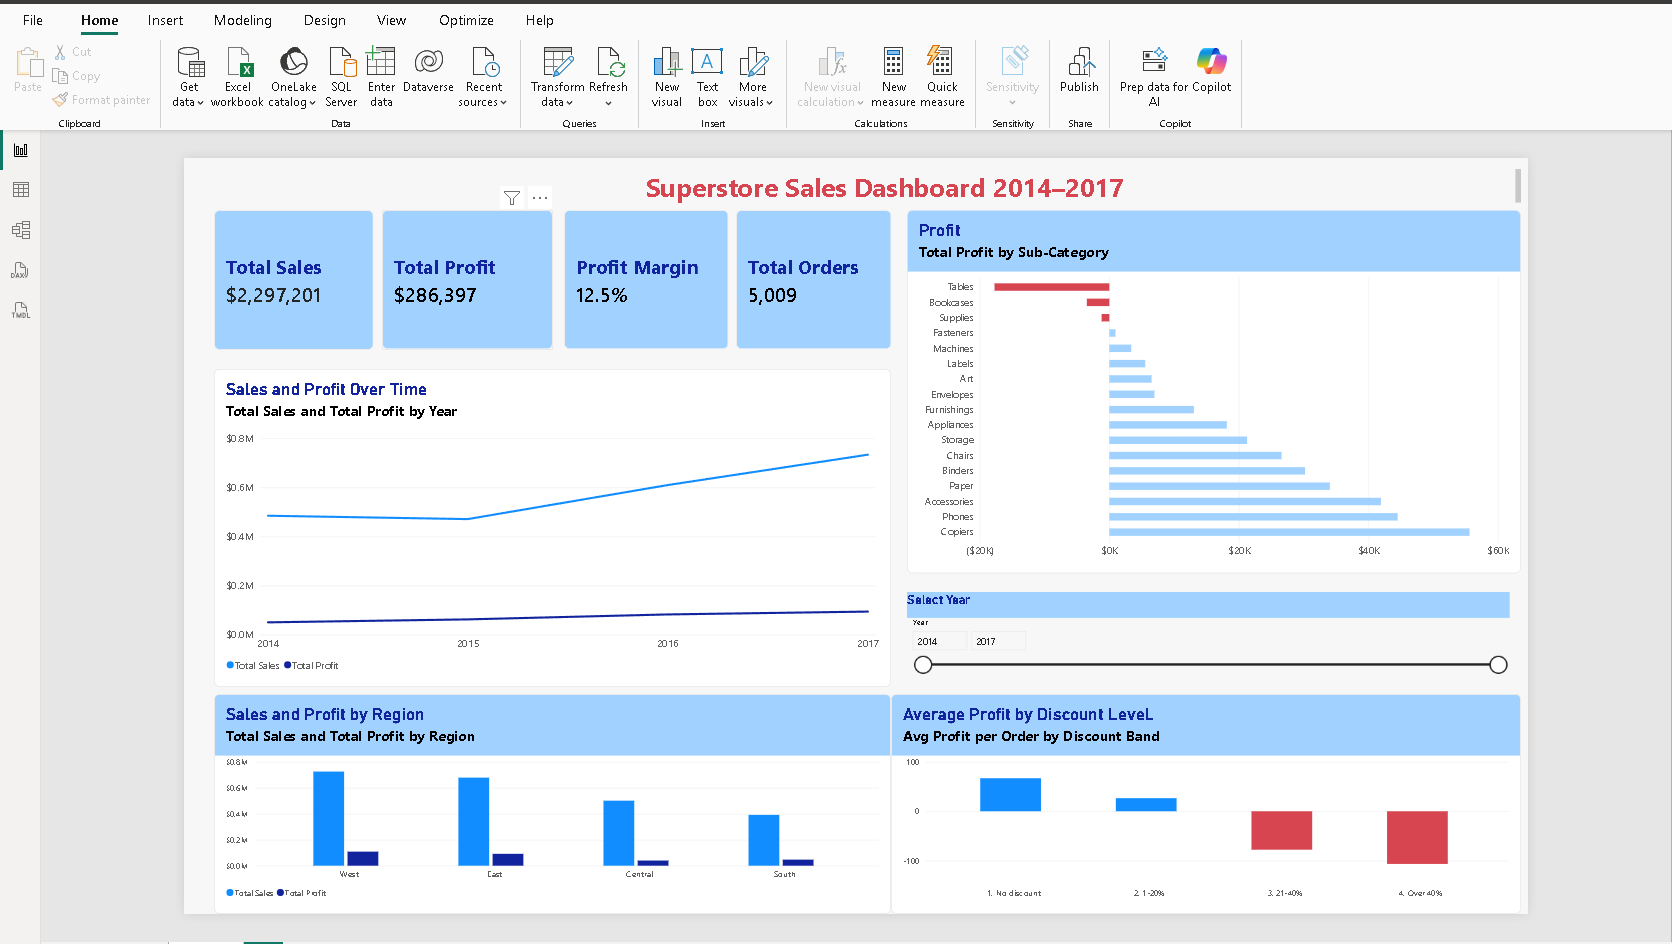

What the dashboard file says about the page in this screenshot:
{"tool":"powerbi","page":{"name":"Page 1","canvas":[1920,1080],"ordinal":0},"visuals":[{"type":"cardVisual","fields":{"Data":["Orders.Sales Display"]},"box":[42.9,74.3,228.6,200],"z":0},{"type":"cardVisual","fields":{"Data":["Orders.Profit Display"]},"box":[282.9,74.3,244.7,199.5],"z":1000},{"type":"cardVisual","fields":{"Data":["Orders.Margin Display"]},"box":[542.9,74.3,235.4,199.5],"z":1001},{"type":"cardVisual","fields":{"Data":["Orders.Orders Display"]},"box":[788.6,74.3,222.1,199.5],"z":1002},{"type":"lineChart","title":"Sales and Profit Over Time","fields":{"Category":["Orders.Order Date.Variation.Date Hierarchy.Year","Orders.Order Date.Variation.Date Hierarchy.Quarter","Orders.Order Date.Variation.Date Hierarchy.Month","Orders.Order Date.Variation.Date Hierarchy.Day"],"Y":["Orders.Total Sales","Orders.Total Profit"]},"box":[42.9,301.4,967.1,454.3],"z":1003},{"type":"clusteredBarChart","title":"Profit","fields":{"Category":["Orders.Sub-Category"],"Y":["Orders.Total Profit"]},"box":[1032.9,74.3,877.1,518.6],"z":1004},{"type":"clusteredColumnChart","title":"Sales and Profit by Region","fields":{"Category":["Orders.Region"],"Y":["Orders.Total Sales","Orders.Total Profit"]},"box":[42.9,765.7,967.1,314.3],"z":1005},{"type":"clusteredColumnChart","title":"Average Profit by Discount Level.","fields":{"Category":["Orders.Discount Band"],"Y":["Orders.Avg Profit per Order"]},"box":[1010,765.7,900,314.3],"z":1006},{"type":"textbox","box":[100,100,300,300],"z":1007},{"type":"textbox","box":[100,15.7,1810,48.6],"z":1008},{"type":"slicer","title":"Select Year","fields":{"Values":["Orders.Year"]},"box":[1032.9,632.9,861.4,122.9],"z":1009}]}

Visuals, with their boxes on the page's 1920x1080 design canvas (x1, y1, x2, y2). These are canvas units, not pixel positions in the 1672x944 screenshot, which may show the page scaled, cropped or inside an application window:
cardVisual - Orders.Sales Display: 43/74/272/274
cardVisual - Orders.Profit Display: 283/74/528/274
cardVisual - Orders.Margin Display: 543/74/778/274
cardVisual - Orders.Orders Display: 789/74/1011/274
"Sales and Profit Over Time" lineChart: 43/301/1010/756
"Profit" clusteredBarChart: 1033/74/1910/593
"Sales and Profit by Region" clusteredColumnChart: 43/766/1010/1080
"Average Profit by Discount Level." clusteredColumnChart: 1010/766/1910/1080
textbox: 100/100/400/400
textbox: 100/16/1910/64
"Select Year" slicer: 1033/633/1894/756
